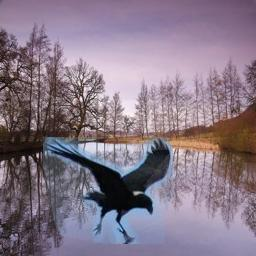Crow: (43, 137, 173, 244)
